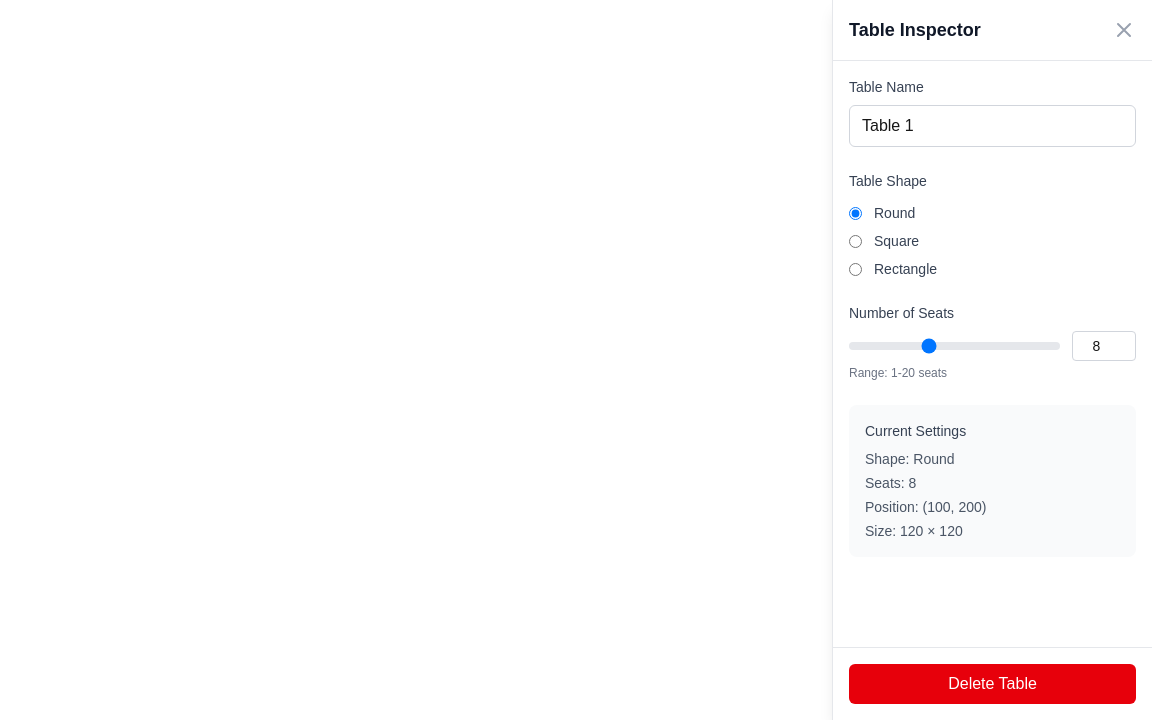
Test: Inspector › delete functionality › should show delete confirmation dialog when delete button is clicked
Click the button "Delete Table".
click(992, 684)  # box [849,664,1136,704]
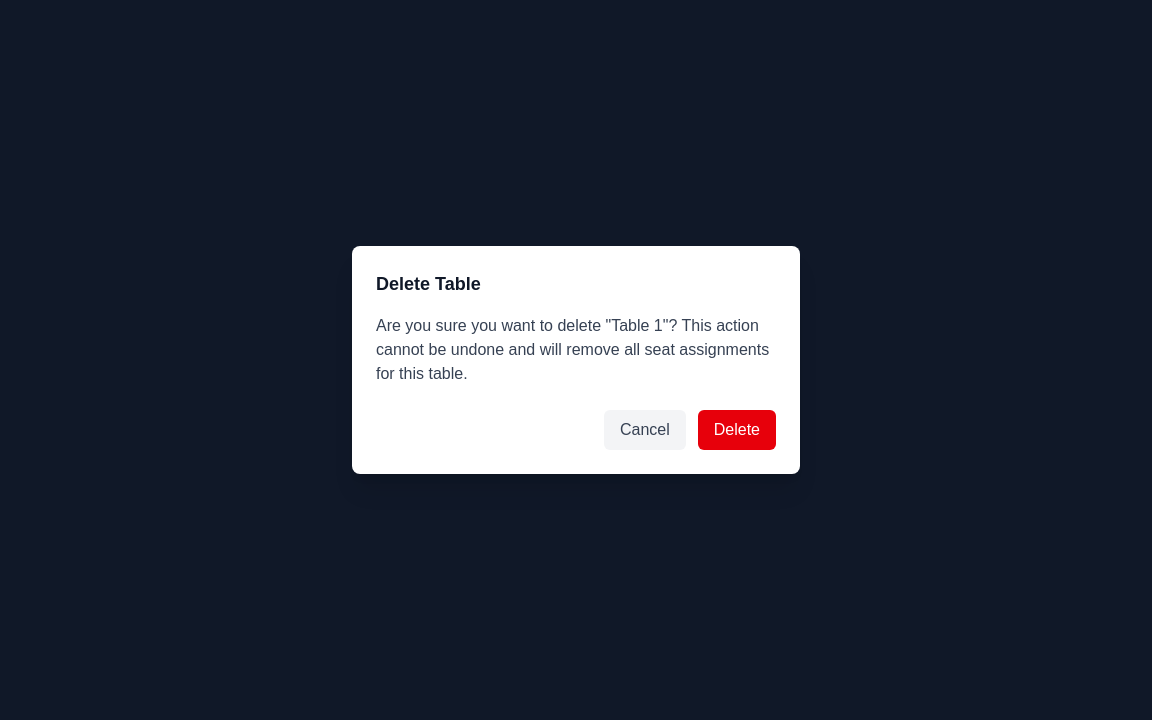
Now the dialog is shown, box [352,246,800,474]
Now the text "Are you sure you want to delete \"Table 1\"" is shown, box [376,314,776,386]
